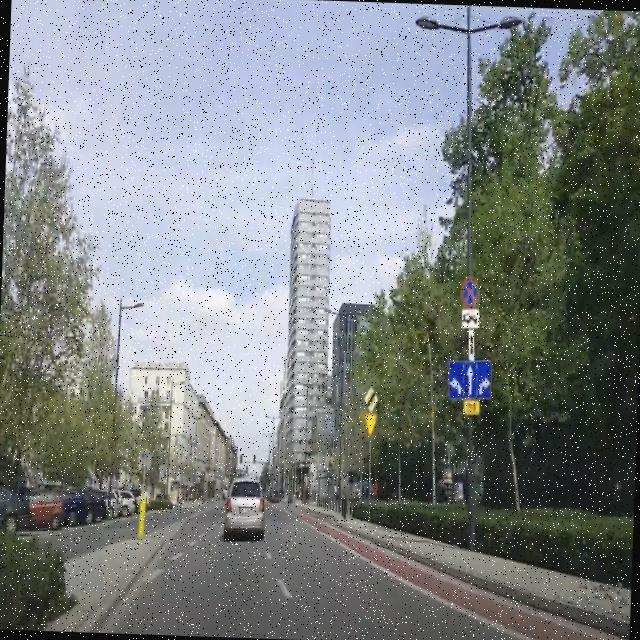Ustap pierwszenstwa: (362, 412, 377, 437)
Zakaz zatrzymywania sie: (459, 272, 480, 308)
